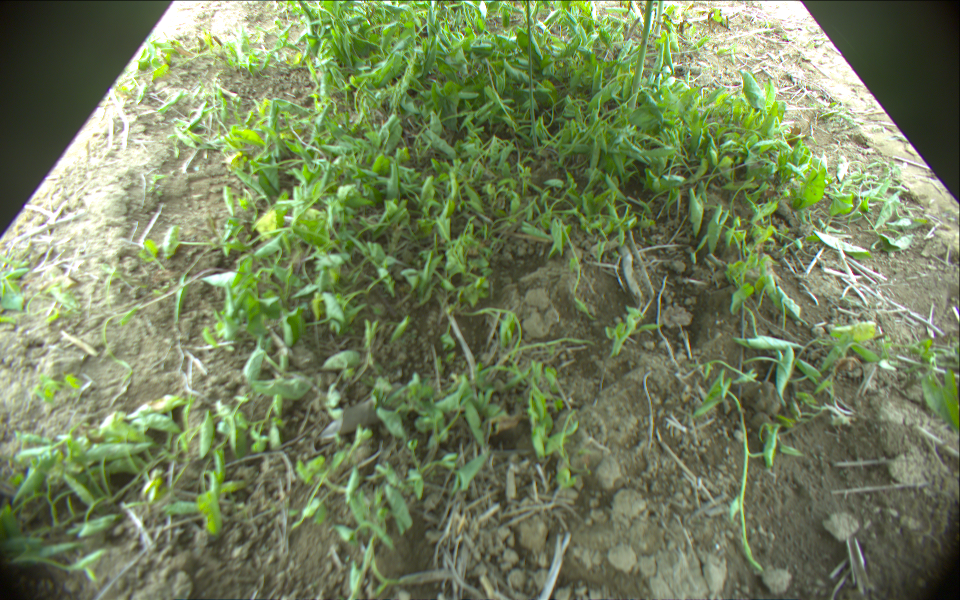aspa: (626, 1, 652, 113), (523, 1, 538, 156), (655, 1, 664, 38)
